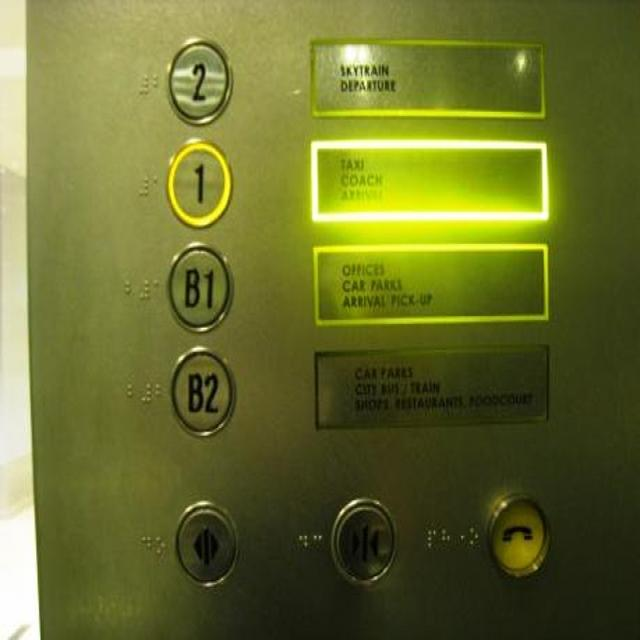1: (163, 132, 235, 232)
2: (161, 31, 234, 129)
B1: (161, 239, 238, 340)
B2: (165, 343, 239, 441)
call: (480, 484, 554, 583)
close: (328, 492, 401, 588)
open: (170, 498, 242, 594)
